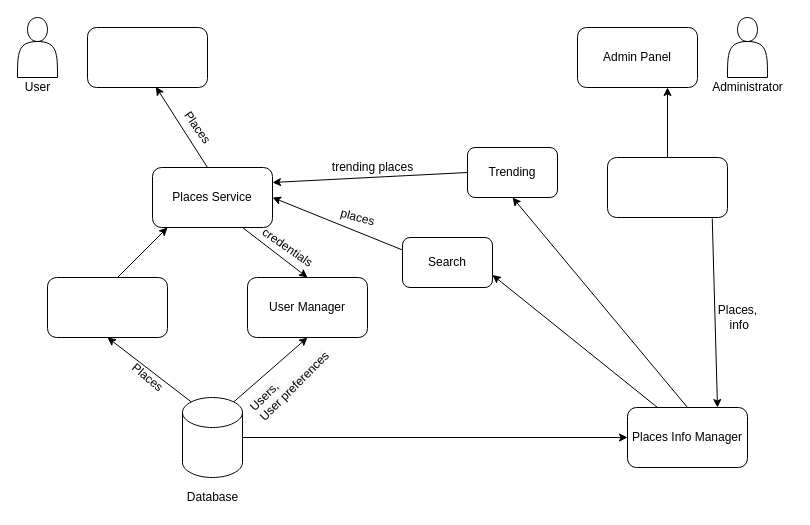
Some shapes in this 810 by 525 pixel diagram are drawn without their labels. Each missing label, with the centre of its shape:
Admin Service: point (667, 187)
Categories: point (107, 307)
Explore Skopje UI: point (147, 57)
